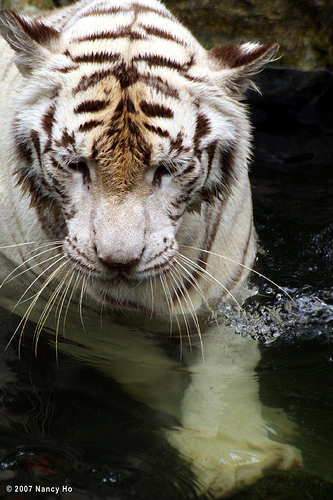Tigre: (14, 5, 277, 359)
